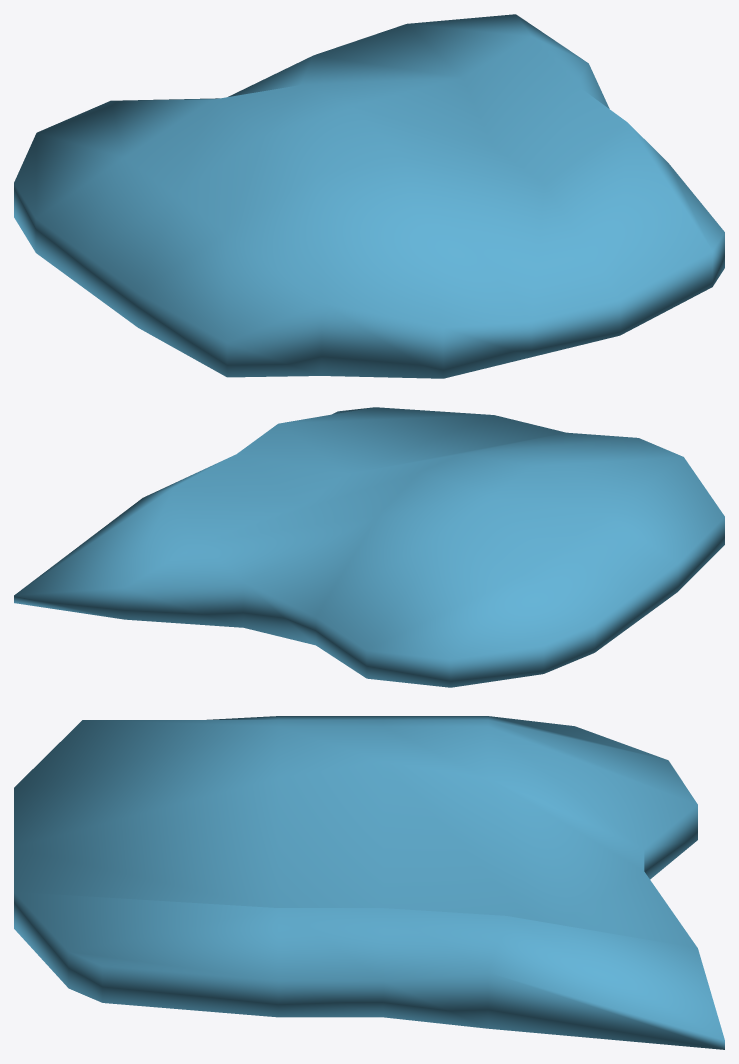
File: ScrapCloth2.fbx
3 views of the same model, one above another, from view 1: azimuth 30°, elevation 25°; view 2: azimuth 150°, elevation 25°; view 3: azimuth 270°, elevation 25° (orthographic). The views are drawn at different scales.
Visible parts, largest first — view 1: Cube; view 2: Cube; view 3: Cube.
Boxes of the visible parts, x1,y1,x2,y2 form: Cube: (14, 14, 724, 378); Cube: (14, 407, 724, 687); Cube: (14, 716, 724, 1049).
Bounding box in the file's own units: 115 × 27.36 × 116.
